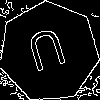U: (24, 26, 72, 81)
